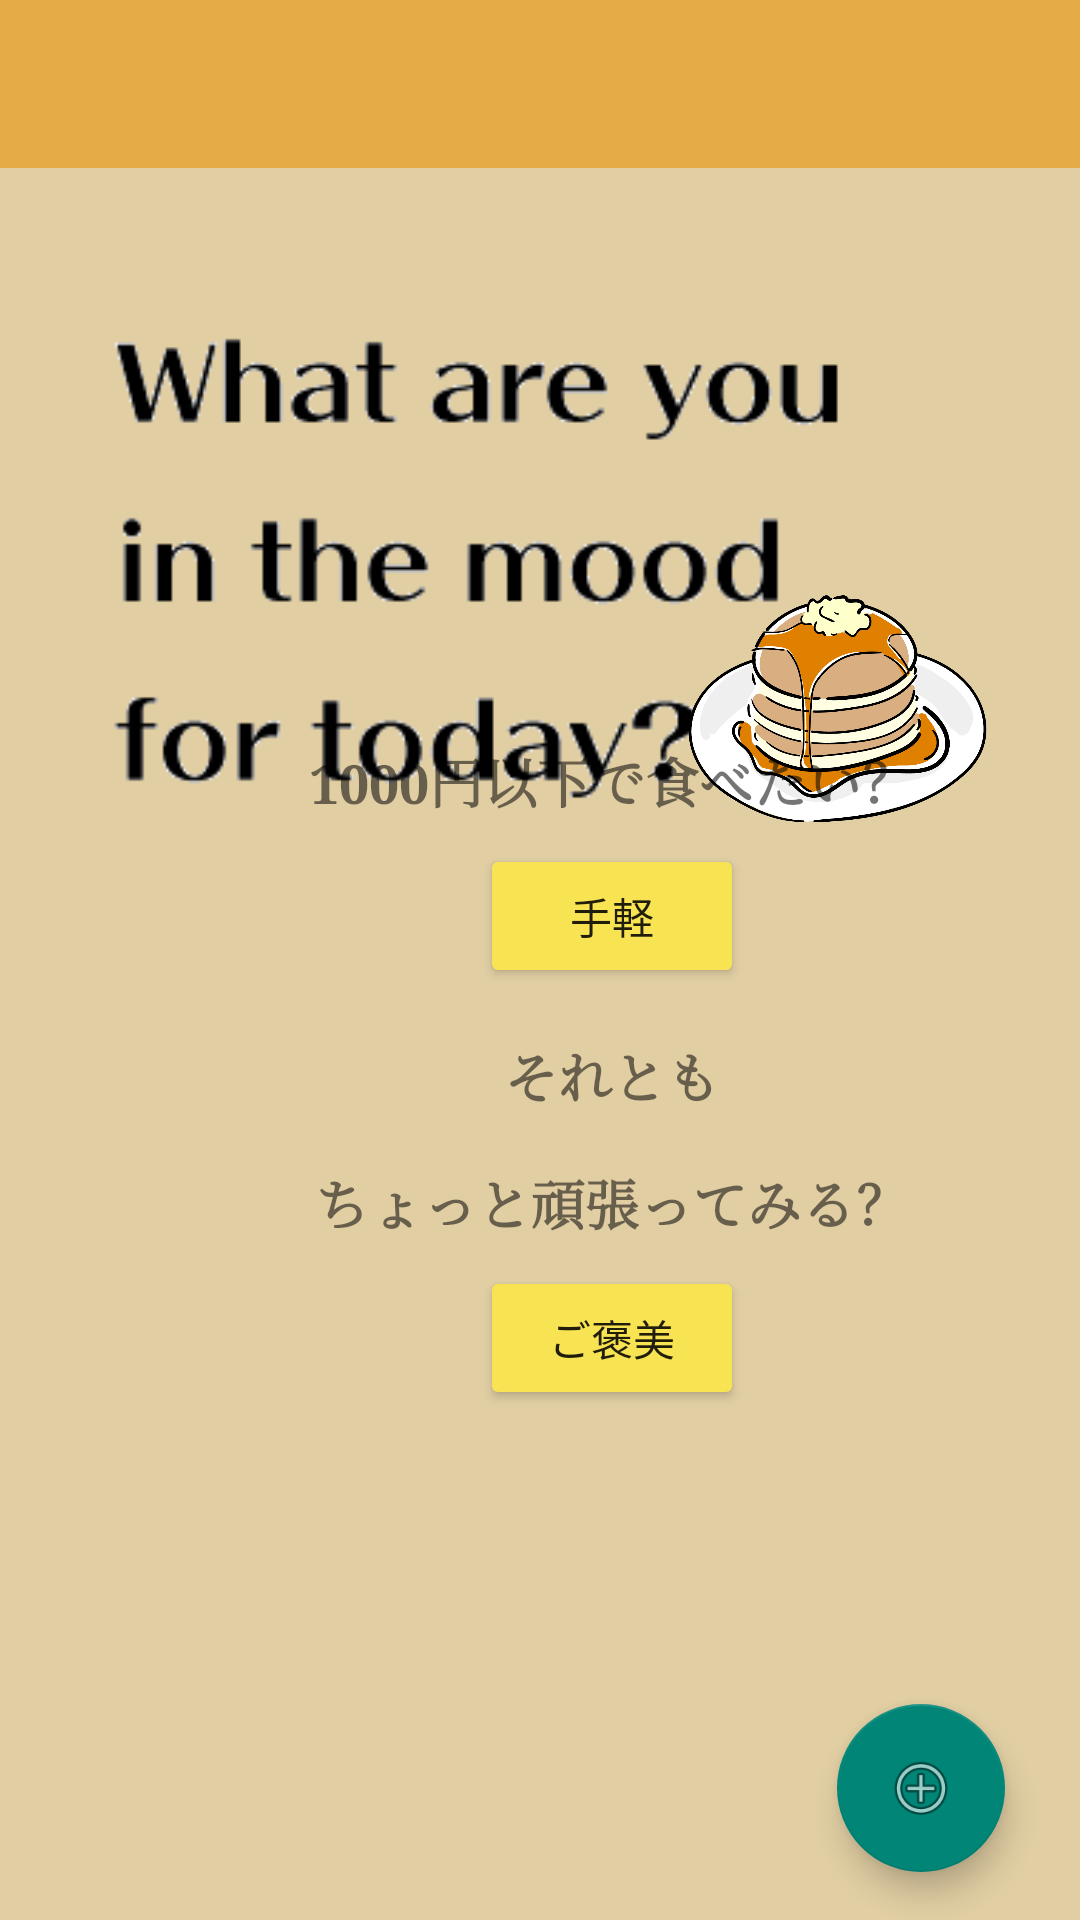

Named icons in this screenshot (1080x1920) and their centers, point (x, y):
add: point (921, 1788)
pancake: point (810, 681)
